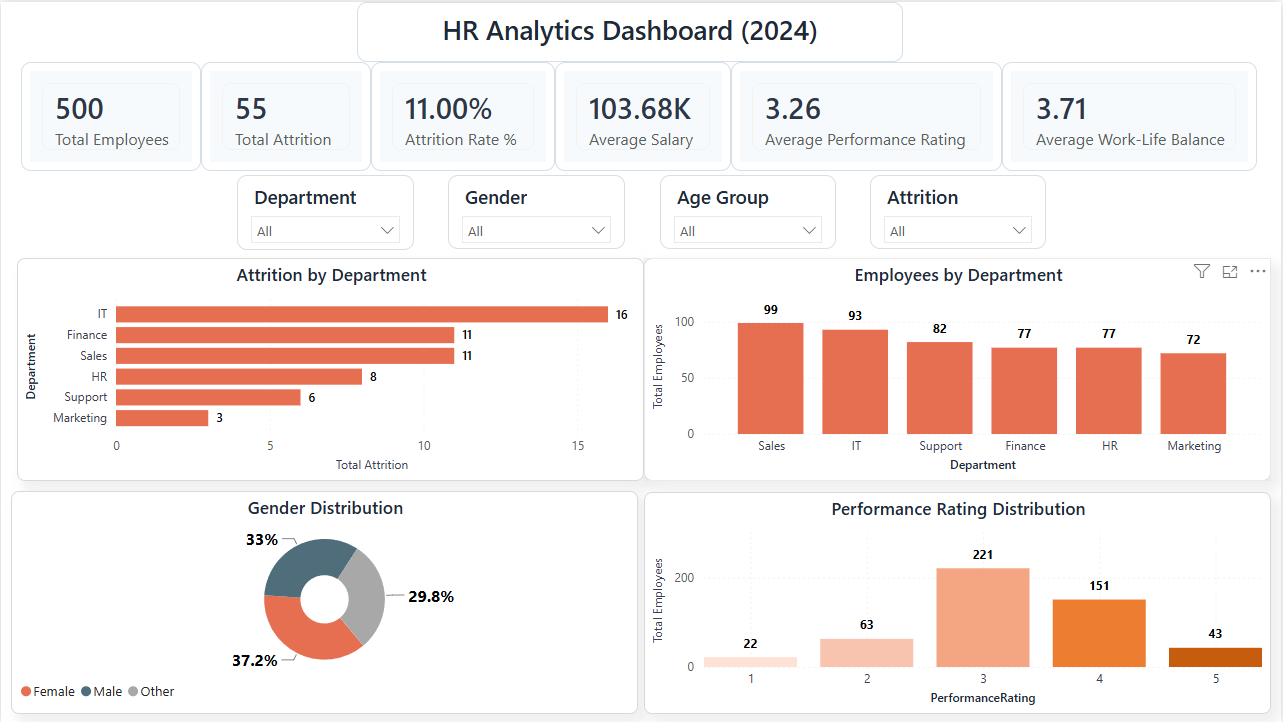

Layout of this report page (visuals, bound fields, positions):
{"tool":"powerbi","page":{"name":"Executive Dashboard","canvas":[1280,720],"ordinal":0},"visuals":[{"type":"cardVisual","fields":{"Data":["HR_Employee_Data.Total Employees"]},"box":[20.4,60.3,179.9,108.9],"z":0},{"type":"cardVisual","fields":{"Data":["HR_Employee_Data.Total Attrition"]},"box":[200.4,60.3,169.2,108.9],"z":1000},{"type":"cardVisual","fields":{"Data":["HR_Employee_Data.Attrition Rate %"]},"box":[369.6,60.3,184.8,108.9],"z":2000},{"type":"cardVisual","fields":{"Data":["HR_Employee_Data.AverageSalary"]},"box":[554.4,60.3,176,108.9],"z":3000},{"type":"cardVisual","fields":{"Data":["HR_Employee_Data.Average Work-Life Balance"]},"box":[1000.9,60.3,254.8,108.9],"z":4000},{"type":"cardVisual","fields":{"Data":["HR_Employee_Data.Average Performance Rating"]},"box":[730.5,60.3,270.4,108.9],"z":5000},{"type":"textbox","box":[356,0,545.7,60.3],"z":6000},{"type":"slicer","fields":{"Values":["HR_Employee_Data.Department"]},"box":[235.8,172.9,176.9,74.9],"z":7000},{"type":"slicer","fields":{"Values":["HR_Employee_Data.Gender"]},"box":[447.3,172.9,176.9,74],"z":8000},{"type":"slicer","fields":{"Values":["HR_Employee_Data.AgeGroup"]},"box":[658.8,172.9,175.9,73.9],"z":9000},{"type":"slicer","fields":{"Values":["HR_Employee_Data.AttritionRisk"]},"box":[869.3,172.9,175.9,73.9],"z":10000},{"type":"clusteredBarChart","title":"Attrition by Department","fields":{"Category":["HR_Employee_Data.Department"],"Y":["HR_Employee_Data.Total Attrition"]},"box":[15.6,255.8,627.4,222.7],"z":11000},{"type":"clusteredColumnChart","title":"Employees by Department","fields":{"Category":["HR_Employee_Data.Department"],"Y":["HR_Employee_Data.Total Employees"]},"box":[642.9,255.8,627.4,222.7],"z":12000},{"type":"donutChart","title":"Gender Distribution","fields":{"Category":["HR_Employee_Data.Gender"],"Y":["HR_Employee_Data.Total Employees"]},"box":[9.7,489.2,627.4,222.7],"z":13000},{"type":"clusteredColumnChart","title":"Performance Rating Distribution","fields":{"Y":["HR_Employee_Data.Total Employees"],"Category":["HR_Employee_Data.PerformanceRating"]},"box":[642.9,490.2,627.4,221.8],"z":14000}]}

Visuals, with their boxes in screenshot pixels (x1, y1, x2, y2), scaled from the page's 1280x720 canvas onto the 1283x722 screenshot:
cardVisual - HR_Employee_Data.Total Employees: {"x1": 20, "y1": 60, "x2": 201, "y2": 170}
cardVisual - HR_Employee_Data.Total Attrition: {"x1": 201, "y1": 60, "x2": 370, "y2": 170}
cardVisual - HR_Employee_Data.Attrition Rate %: {"x1": 370, "y1": 60, "x2": 556, "y2": 170}
cardVisual - HR_Employee_Data.AverageSalary: {"x1": 556, "y1": 60, "x2": 732, "y2": 170}
cardVisual - HR_Employee_Data.Average Work-Life Balance: {"x1": 1003, "y1": 60, "x2": 1259, "y2": 170}
cardVisual - HR_Employee_Data.Average Performance Rating: {"x1": 732, "y1": 60, "x2": 1003, "y2": 170}
textbox: {"x1": 357, "y1": 0, "x2": 904, "y2": 60}
slicer - HR_Employee_Data.Department: {"x1": 236, "y1": 173, "x2": 414, "y2": 248}
slicer - HR_Employee_Data.Gender: {"x1": 448, "y1": 173, "x2": 626, "y2": 248}
slicer - HR_Employee_Data.AgeGroup: {"x1": 660, "y1": 173, "x2": 837, "y2": 247}
slicer - HR_Employee_Data.AttritionRisk: {"x1": 871, "y1": 173, "x2": 1048, "y2": 247}
"Attrition by Department" clusteredBarChart: {"x1": 16, "y1": 257, "x2": 645, "y2": 480}
"Employees by Department" clusteredColumnChart: {"x1": 644, "y1": 257, "x2": 1273, "y2": 480}
"Gender Distribution" donutChart: {"x1": 10, "y1": 491, "x2": 639, "y2": 714}
"Performance Rating Distribution" clusteredColumnChart: {"x1": 644, "y1": 492, "x2": 1273, "y2": 714}
